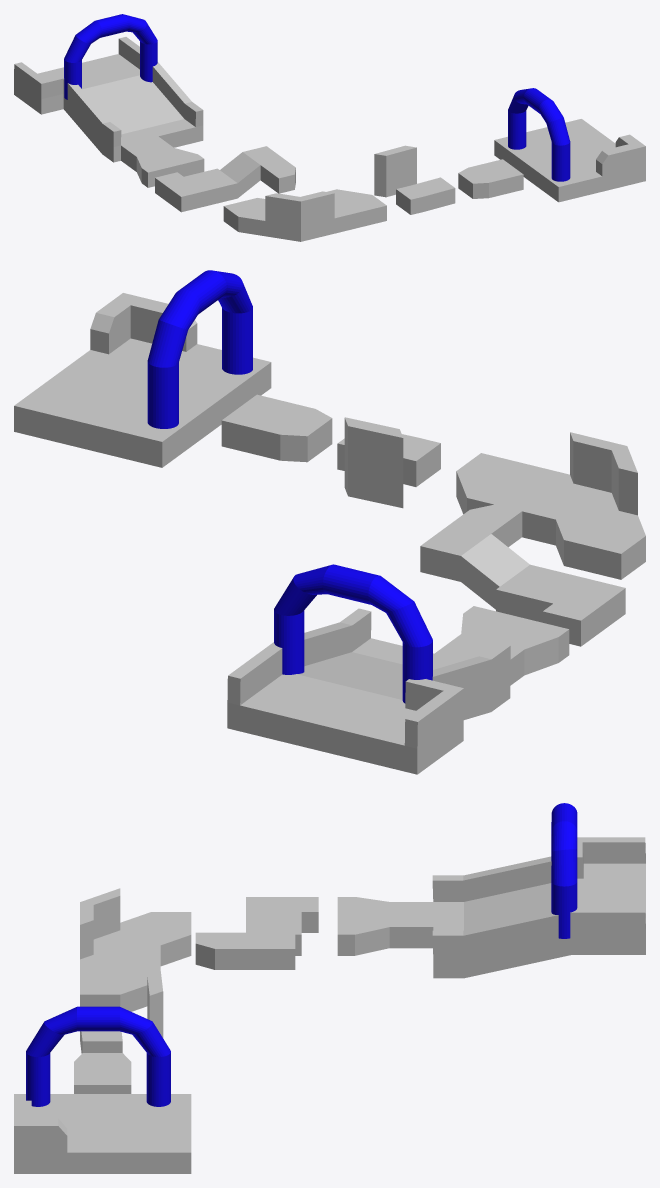
The model's file is parkour.obj.
3 renders of one model, top to bottom at view 1: azimuth 30°, elevation 25°; view 2: azimuth 150°, elevation 25°; view 3: azimuth 270°, elevation 25°, orthographic. The views are drawn at different scales.
Visible parts, largest first — view 1: Cylinder.001; view 2: Cylinder.001; view 3: Cylinder.001.
Part boxes in pixels (x1,y1,x2,y2): Cylinder.001: (14, 14, 645, 241); Cylinder.001: (14, 270, 645, 774); Cylinder.001: (14, 803, 645, 1173).
Size of the model in its own units: 54.98 by 12.88 by 54.21.
2 materials, 1 textured.
